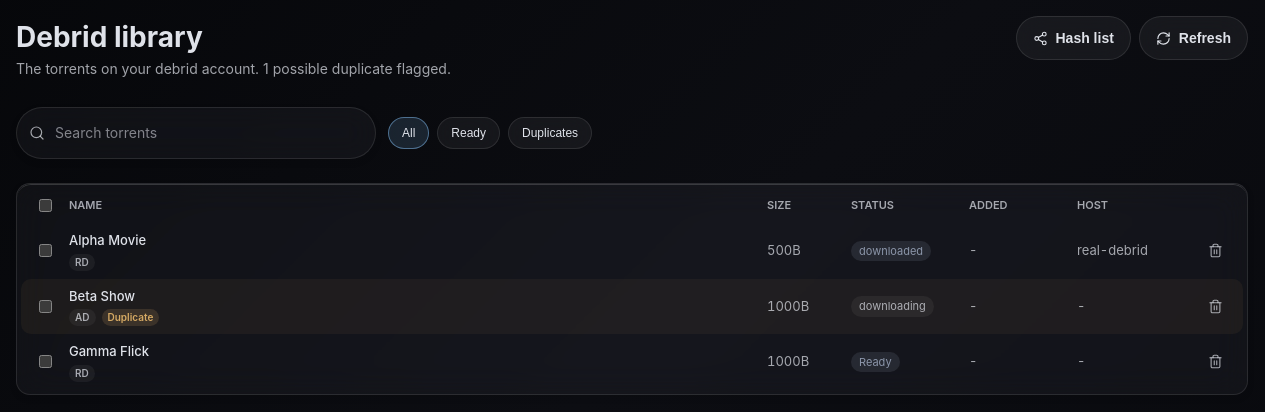
Test: DebridLibrary - table render + filters › shows the no-match message when filters exclude everything
In the field labelled "Search torrents": x=208, y=133 [53,116,363,150], type "zzz-nope"
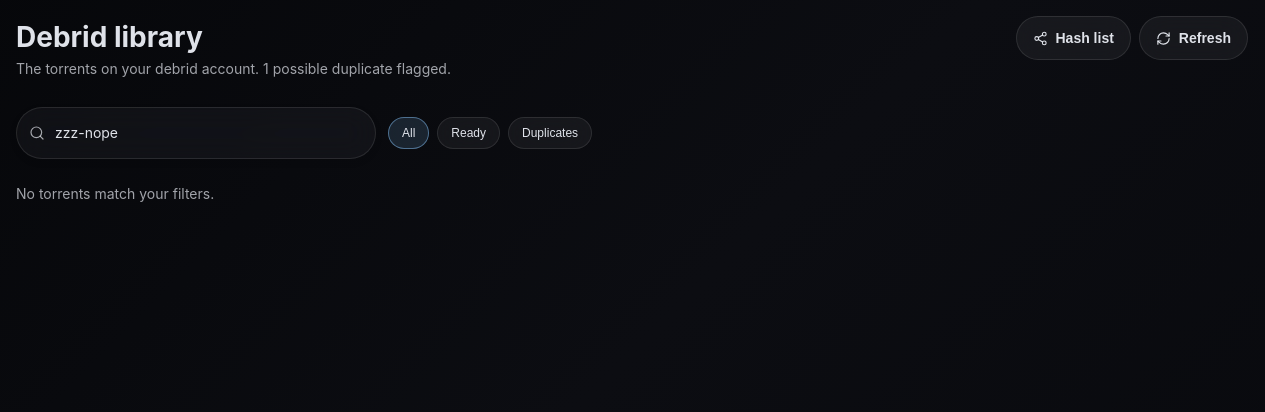
Expected: the text "No torrents match your filters." is shown, [16,185,214,202]
